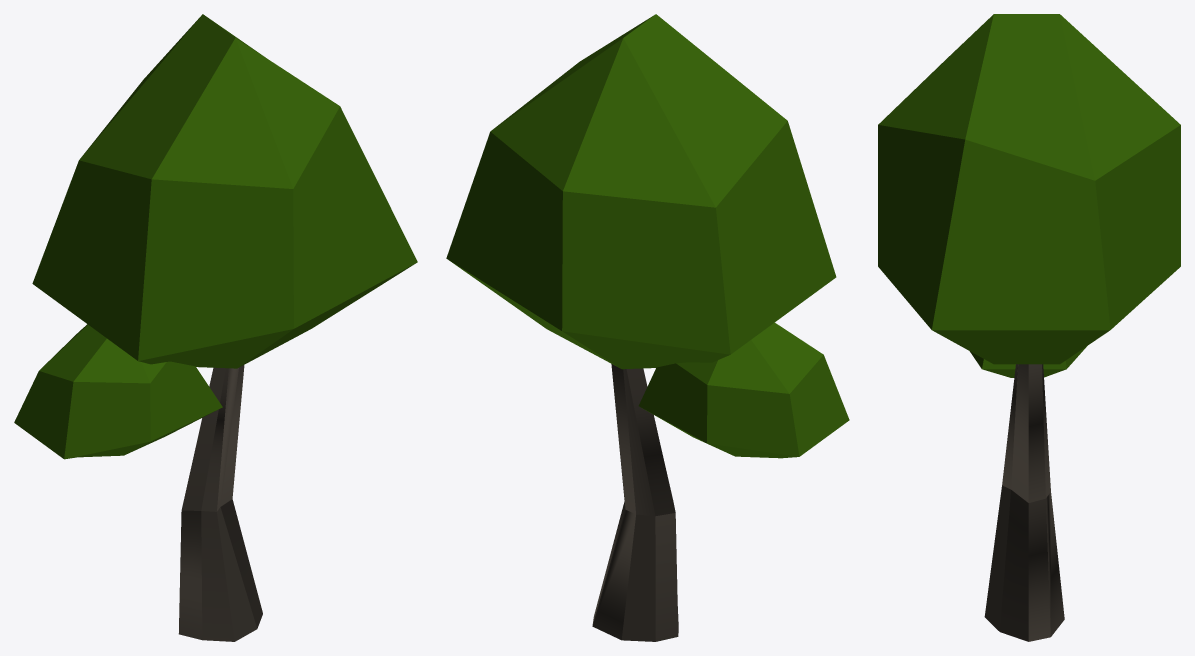
The model's file is Arbol_1.fbx.
3 views of the same model, side by side, from view 1: azimuth 30°, elevation 25°; view 2: azimuth 150°, elevation 25°; view 3: azimuth 270°, elevation 25° (orthographic).
Visible parts, largest first — view 1: Objeto_Poligonal_1, Objeto_Poligonal_2, Objeto_Poligonal; view 2: Objeto_Poligonal_1, Objeto_Poligonal_2, Objeto_Poligonal; view 3: Objeto_Poligonal_1, Objeto_Poligonal, Objeto_Poligonal_2.
Part boxes in pixels (x1,y1,x2,y2): Objeto_Poligonal_1: (32,14,417,368); Objeto_Poligonal_2: (14,324,222,459); Objeto_Poligonal: (178,365,262,641); Objeto_Poligonal_1: (446,14,836,369); Objeto_Poligonal_2: (638,322,849,458); Objeto_Poligonal: (592,364,678,641); Objeto_Poligonal_1: (878,14,1180,364); Objeto_Poligonal: (984,364,1064,641); Objeto_Poligonal_2: (970,346,1086,377).
Bounding box in the file's own units: 903 × 1549 × 702.
